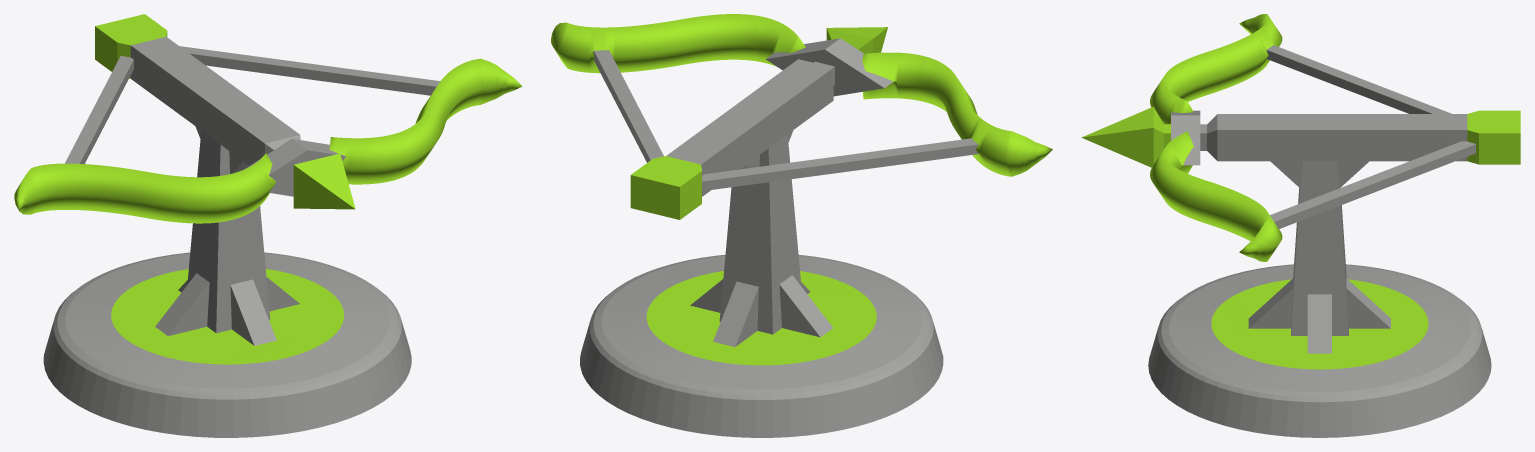
File: ballista.fbx
The picture shows the model from 3 angles, left to right: view 1: azimuth 30°, elevation 25°; view 2: azimuth 150°, elevation 25°; view 3: azimuth 270°, elevation 25°; orthographic projection. The views are drawn at different scales.
Visible parts, largest first — view 1: Circle; view 2: Circle; view 3: Circle.
Boxes of the visible parts, x1,y1,x2,y2 form: Circle: (14,14,522,437); Circle: (551,14,1052,437); Circle: (1081,14,1520,437).
Bounding box in the file's own units: 410 × 209 × 333.
Materials: 1 (1 with a texture image).
